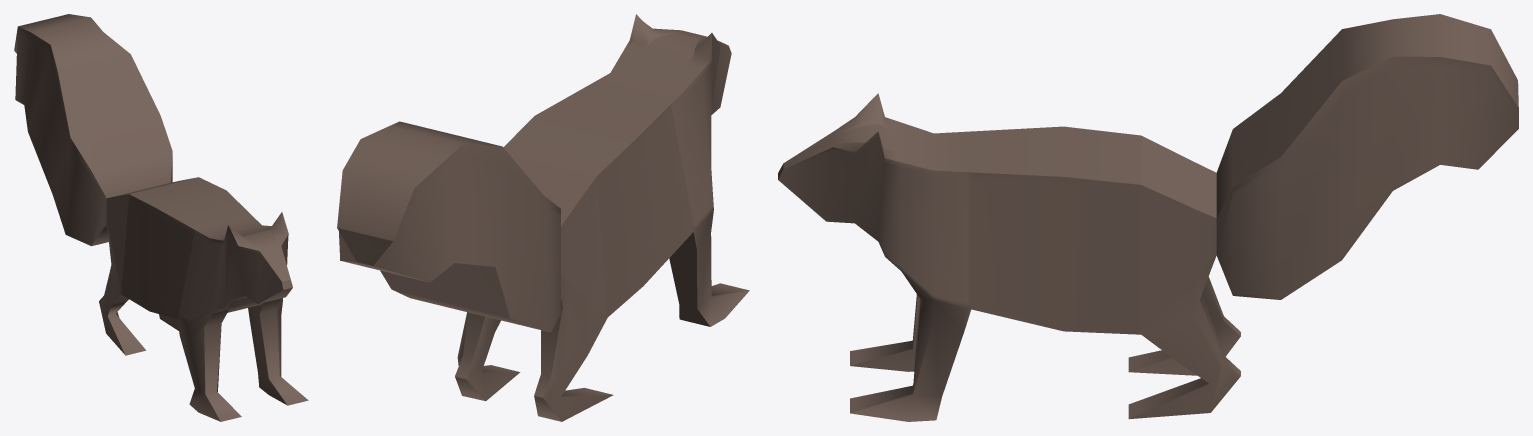
Rendered from squirrel.fbx.
The picture shows the model from 3 angles, left to right: view 1: azimuth 30°, elevation 25°; view 2: azimuth 150°, elevation 25°; view 3: azimuth 270°, elevation 25°; orthographic projection. The views are drawn at different scales.
Parts seen in each view (by area): view 1: pCube4; view 2: pCube4; view 3: pCube4.
Part boxes in pixels (left/top/right/bottom): pCube4: left=14, top=14, right=308, bottom=421; pCube4: left=337, top=14, right=749, bottom=421; pCube4: left=778, top=14, right=1518, bottom=421.
Bounding box in the file's own units: 1.51 × 3.5 × 6.67.
